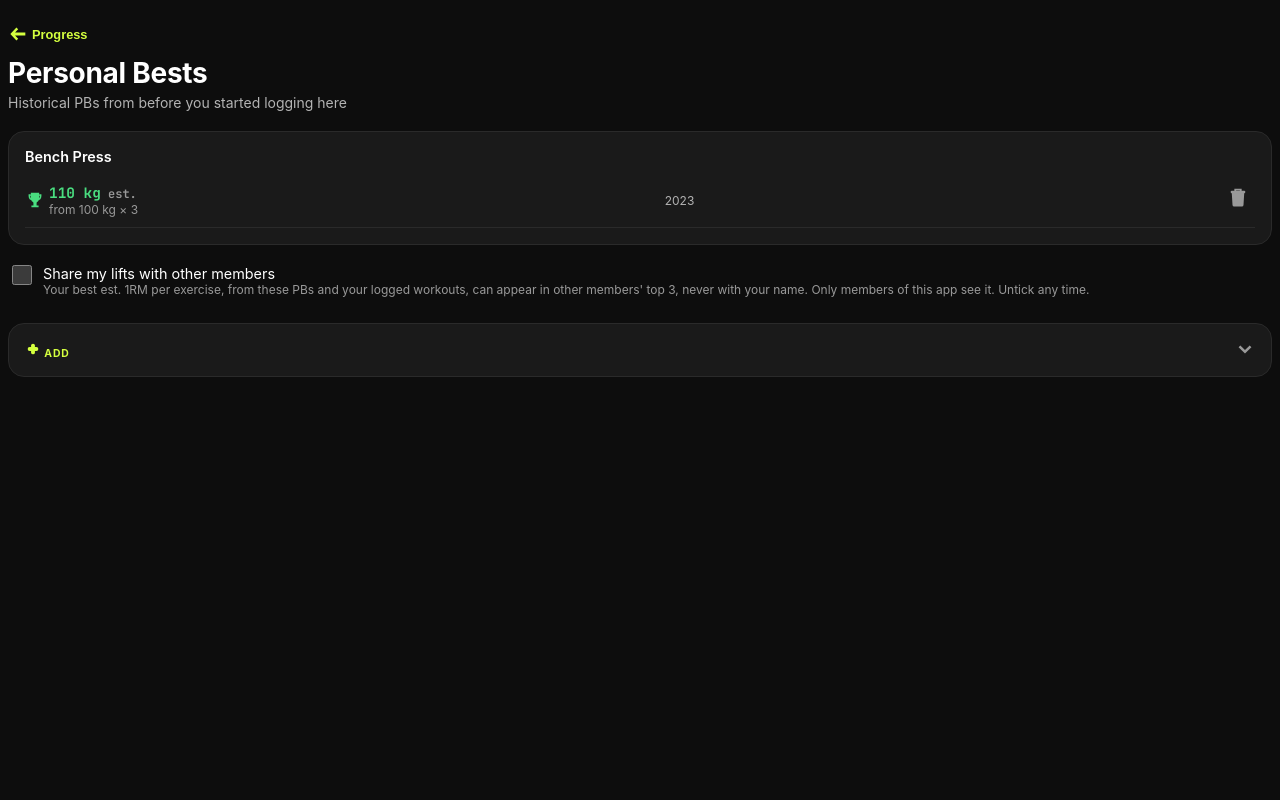
Test: PersonalBests add-form disclosure — item 19 › opening the disclosure reveals the form, keeping the list in place
Expected: the text "Bench Press" is shown, [25, 148, 112, 165]
Click the button "Add": {"x": 33, "y": 348} [9, 324, 1271, 376]
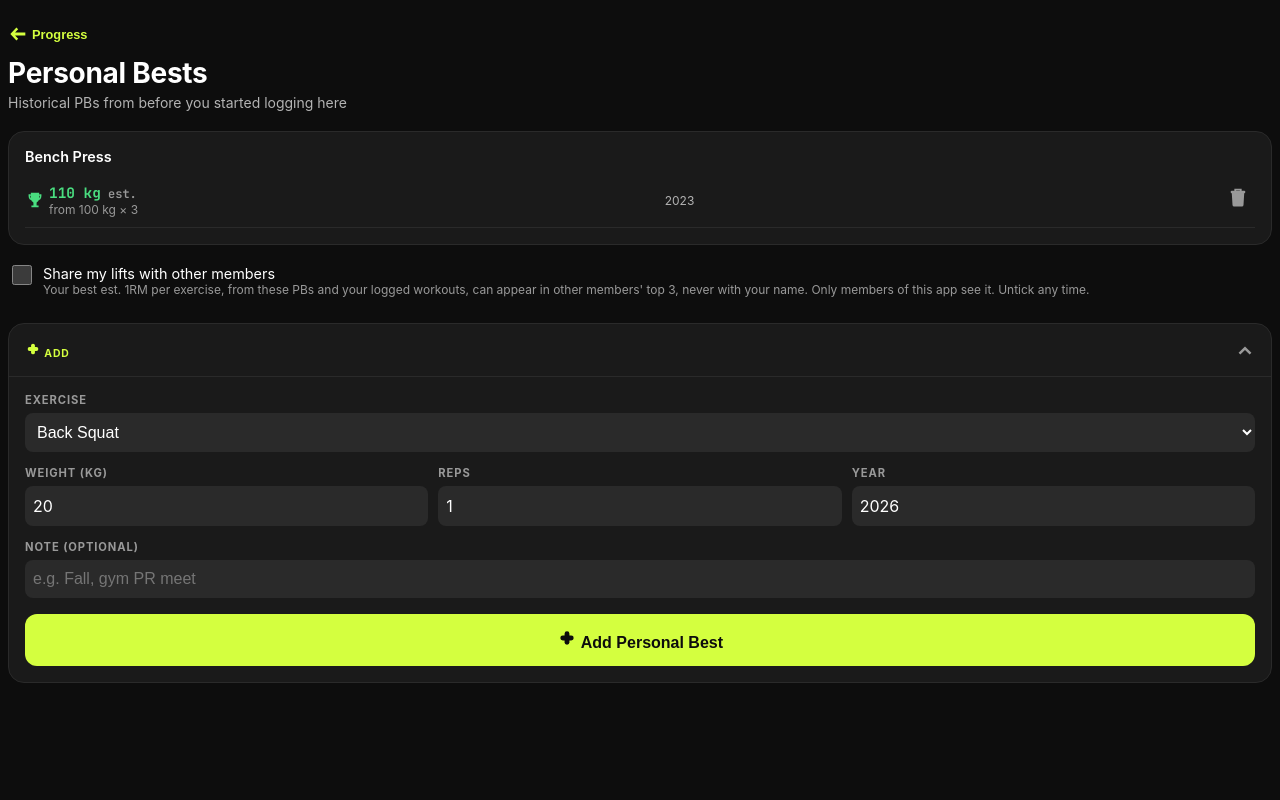
Now the button "Add" is expanded, box [9, 324, 1271, 376]
Now the button "Add Personal Best" is shown, box [25, 614, 1255, 666]
